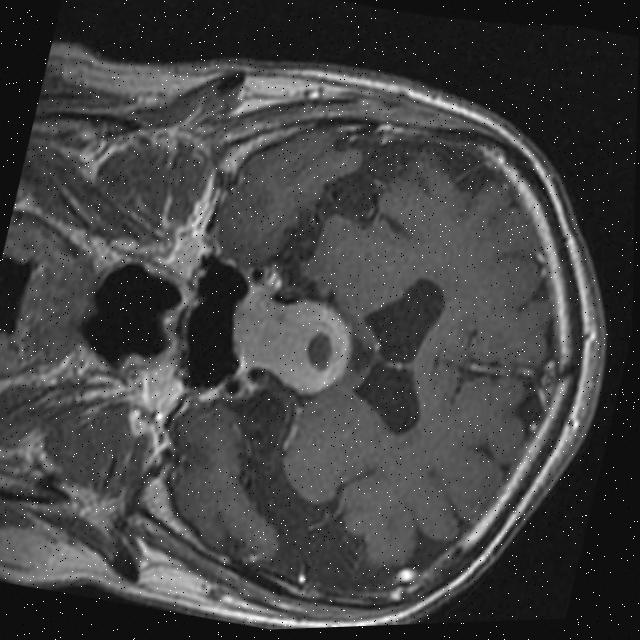Pituitary: (216, 282, 362, 406)
